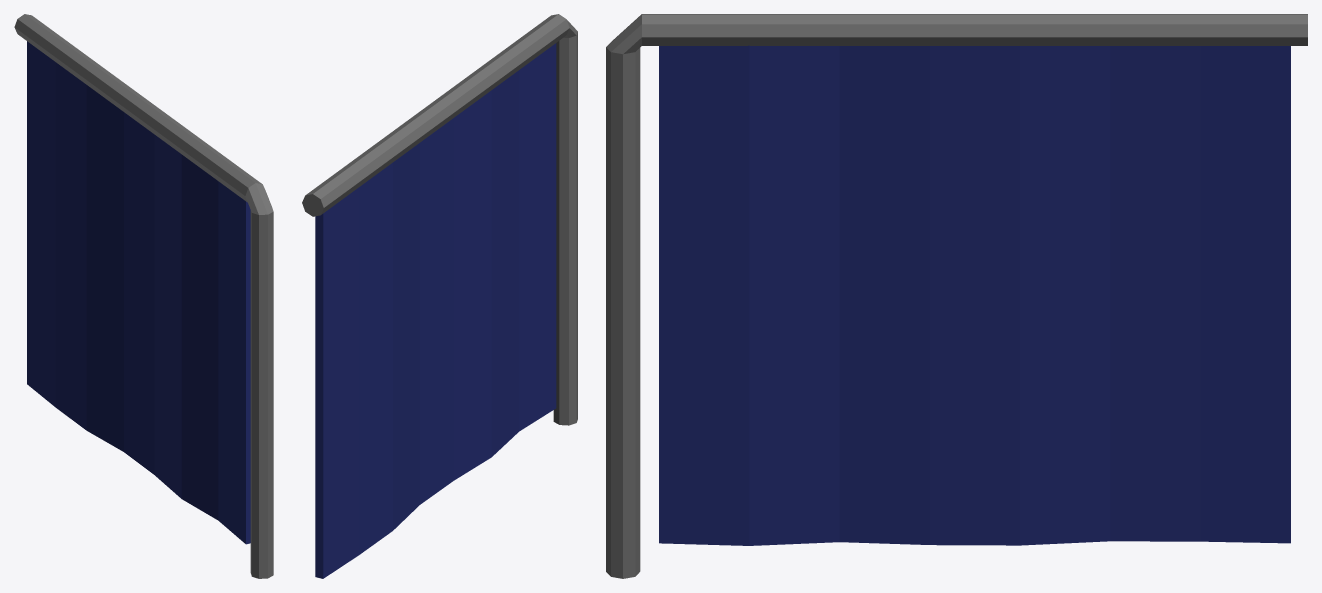
File: curtain1.fbx
3 renders of one model, left to right at view 1: azimuth 30°, elevation 25°; view 2: azimuth 150°, elevation 25°; view 3: azimuth 270°, elevation 25°, orthographic. The views are drawn at different scales.
Parts seen in each view (by area): view 1: Cylinder; view 2: Cylinder; view 3: Cylinder.
Boxes of the visible parts, x1=… form: Cylinder: x1=14, y1=14, x2=273, y2=578; Cylinder: x1=302, y1=14, x2=577, y2=578; Cylinder: x1=606, y1=14, x2=1307, y2=578.
Bounding box in the file's own units: 20 × 360 × 411.
